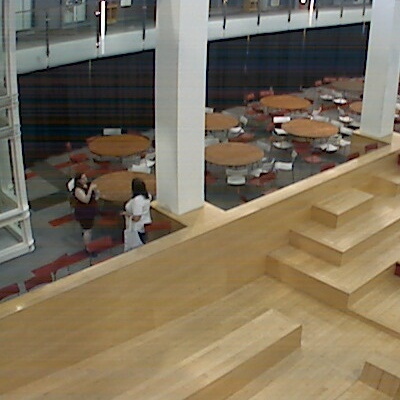head: (129, 174, 149, 195), (72, 169, 92, 186)
